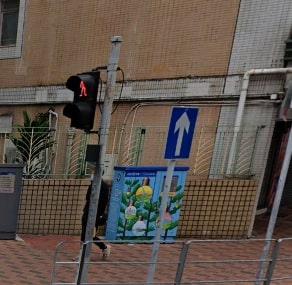One Way Traffic: (163, 106, 200, 160)
